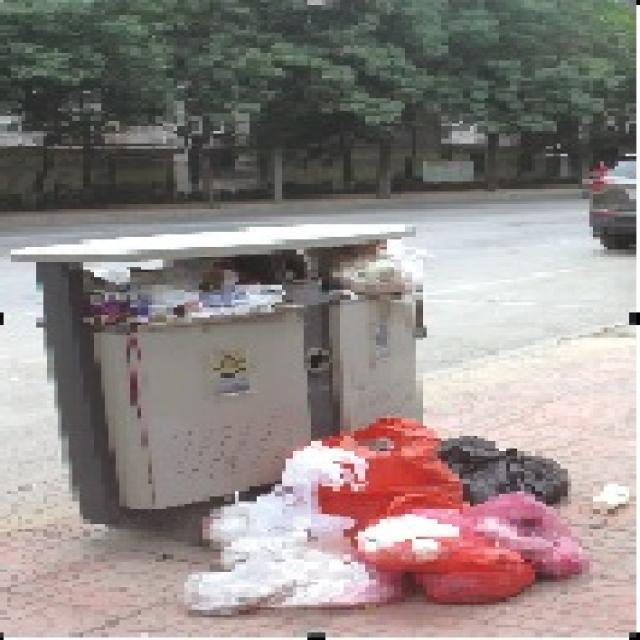garbage: (184, 413, 626, 615)
overflow: (8, 219, 420, 534)
